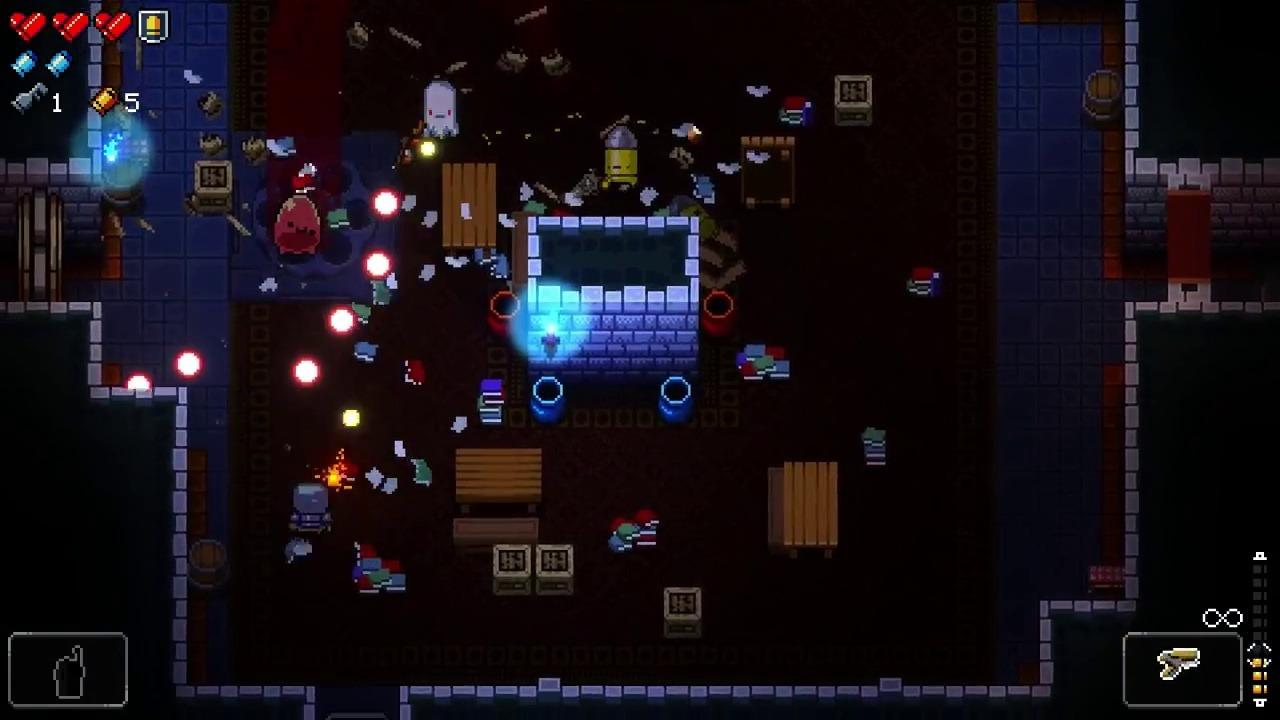blobulon_l: (273, 196, 322, 258)
blocked_door: (1167, 174, 1210, 303)
bullet: (293, 357, 321, 388), (373, 188, 401, 219), (174, 350, 203, 379), (364, 250, 391, 280), (328, 307, 356, 335), (125, 372, 152, 394)
bullet_kin: (605, 123, 639, 187)
hollowpoint: (422, 78, 459, 139)
locked_door: (18, 188, 63, 303)
player: (291, 482, 333, 537)
table: (456, 447, 543, 514), (441, 162, 498, 258), (785, 462, 839, 560), (741, 137, 797, 212)
teleporter: (229, 132, 401, 298)
wall: (528, 216, 700, 383)
